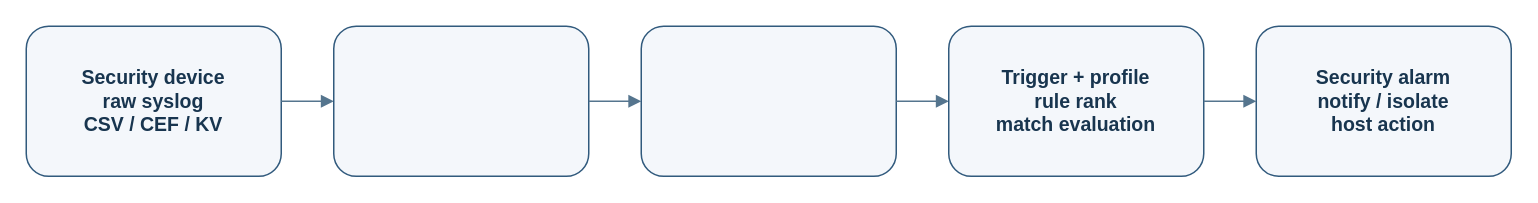
Some shapes in this 1538 by 203 pixel diagram are drawn without their labels. Here are the shapes that lost their labels. From the top down, the centre of each, then its label:
At (460,100): "Event parser field mapping severity normalize".
At (768,100): "Host correlation source IP to MAC L3 polling".
